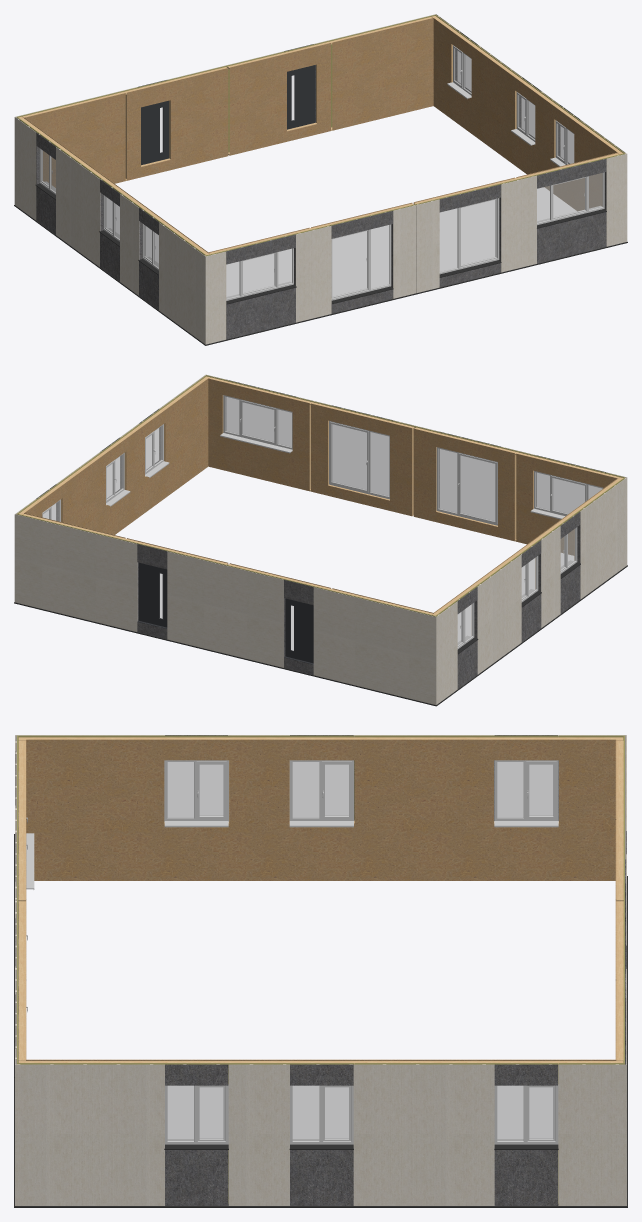
The model's file is Fassaad.glb.
The picture shows the model from 3 angles, top to bottom: view 1: azimuth 30°, elevation 25°; view 2: azimuth 150°, elevation 25°; view 3: azimuth 270°, elevation 25°; orthographic projection. The views are drawn at different scales.
Parts seen in each view (by area): view 1: OSB_Plaat_053 (×2), Kiudtsementplaat_046 (×2), Kiudtsementplaat_045 (×2), OSB_Plaat_045, Aken_Tava_121 (×2), Aken_Tava_120 (×2), Aken_Tava_117 (×6), Uks_020 (×2), Pruss 45x145_402 (×2), Pruss 45x145_410 (×2), Pruss 45x145_458 (×2), Fassaadsein_Tuuletoke_053; view 2: Kiudtsementplaat_045 (×2), OSB_Plaat_046 (×2), OSB_Plaat_045, Aken_Tava_121 (×2), Aken_Tava_120 (×2), Aken_Tava_117 (×5), Uks_020 (×2), Pruss 45x145_402 (×2), Pruss 45x145_410 (×2), Pruss 45x145_458 (×2), Veeplekk_elementide_vahel_062; view 3: Kiudtsementplaat_045 (×2), OSB_Plaat_045 (×2), Aken_Tava_117 (×6), Fassaadsein_Tuuletoke_045 (×2), Pruss 45x145_402 (×2), Pruss 45x145_458 (×2), Pruss 45x145_410 (×2), Veeplekk_elementide_vahel_045.
Boxes of the visible parts, box(x1,y1,x2,y2) form: OSB_Plaat_053 (×2): box(25, 18, 433, 187); Kiudtsementplaat_046 (×2): box(206, 153, 626, 344); Kiudtsementplaat_045 (×2): box(14, 14, 627, 344); OSB_Plaat_045: box(433, 18, 617, 210); Aken_Tava_121 (×2): box(331, 198, 501, 304); Aken_Tava_120 (×2): box(226, 172, 606, 304); Aken_Tava_117 (×6): box(35, 45, 574, 274); Uks_020 (×2): box(141, 65, 315, 165); Pruss 45x145_402 (×2): box(18, 16, 623, 254); Pruss 45x145_410 (×2): box(208, 153, 618, 254); Pruss 45x145_458 (×2): box(22, 17, 432, 117); Fassaadsein_Tuuletoke_053: box(223, 15, 435, 152); Kiudtsementplaat_045 (×2): box(14, 374, 627, 704); OSB_Plaat_046 (×2): box(208, 378, 617, 555); OSB_Plaat_045: box(24, 378, 208, 534); Aken_Tava_121 (×2): box(329, 421, 497, 525); Aken_Tava_120 (×2): box(220, 395, 603, 519); Aken_Tava_117 (×5): box(106, 424, 580, 654); Uks_020 (×2): box(137, 562, 313, 664); Pruss 45x145_402 (×2): box(19, 376, 622, 615); Pruss 45x145_410 (×2): box(209, 377, 619, 478); Pruss 45x145_458 (×2): box(23, 514, 432, 614); Veeplekk_elementide_vahel_062: box(14, 602, 436, 706); Kiudtsementplaat_045 (×2): box(15, 735, 626, 1205); OSB_Plaat_045 (×2): box(26, 739, 616, 1060); Aken_Tava_117 (×6): box(164, 760, 558, 1149); Fassaadsein_Tuuletoke_045 (×2): box(17, 735, 624, 1203); Pruss 45x145_402 (×2): box(18, 737, 623, 1064); Pruss 45x145_458 (×2): box(616, 740, 623, 1062); Pruss 45x145_410 (×2): box(18, 740, 25, 1060); Veeplekk_elementide_vahel_045: box(14, 1204, 627, 1207).
Bounding box in the file's own units: 15.65 × 3.16 × 12.29.
12 materials, 4 textured.
